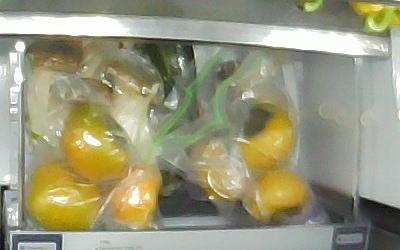persimmon_vinyl: (27, 159, 106, 230), (62, 107, 130, 180), (229, 102, 298, 173), (104, 162, 163, 227), (244, 168, 312, 223)
